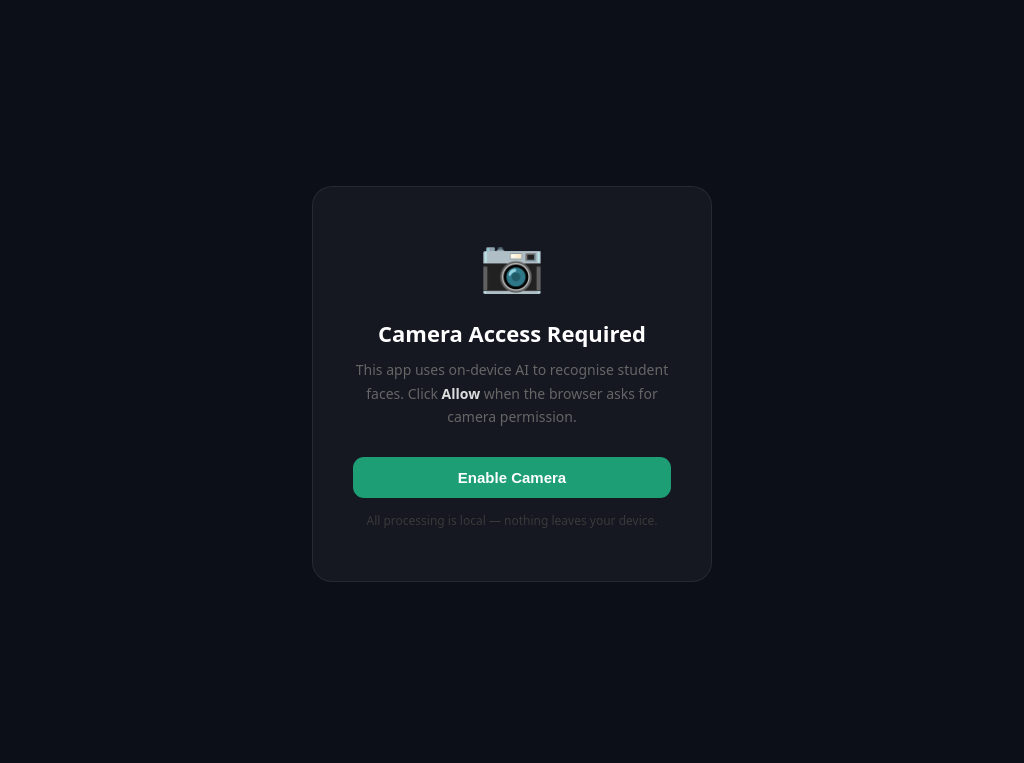
App › summary percentages are well-formed
Click the button "Enable Camera". click: (512, 478)
box: [353, 457, 671, 498]
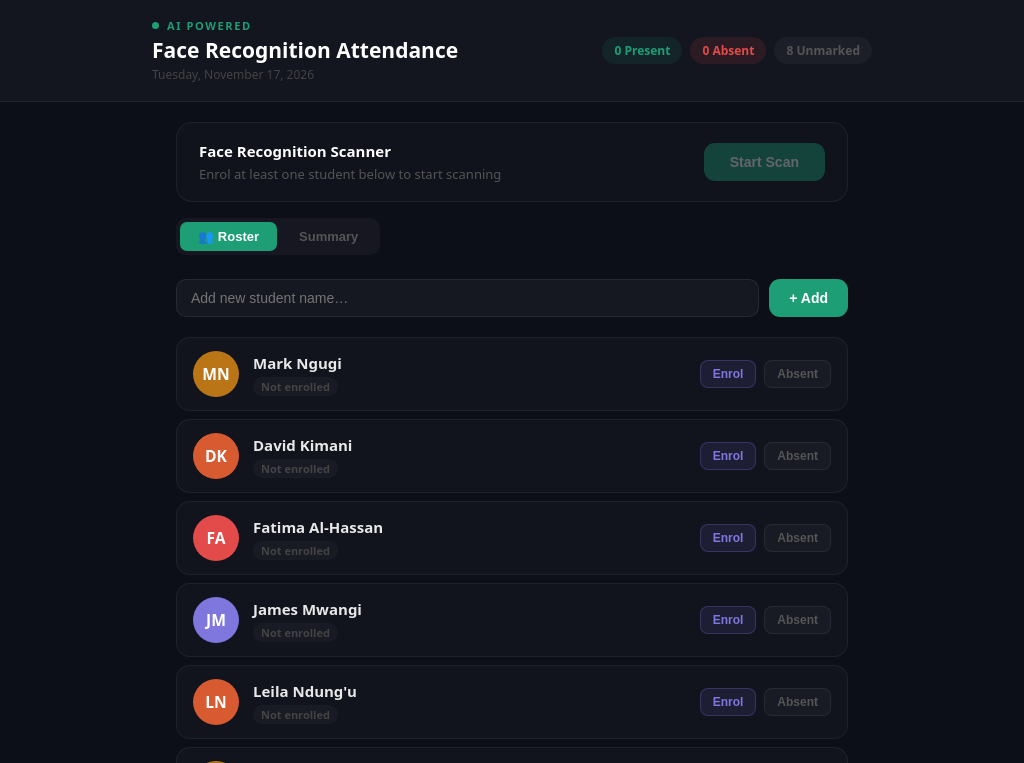
Click the button "Summary". click: (329, 236)
box: [281, 222, 376, 251]
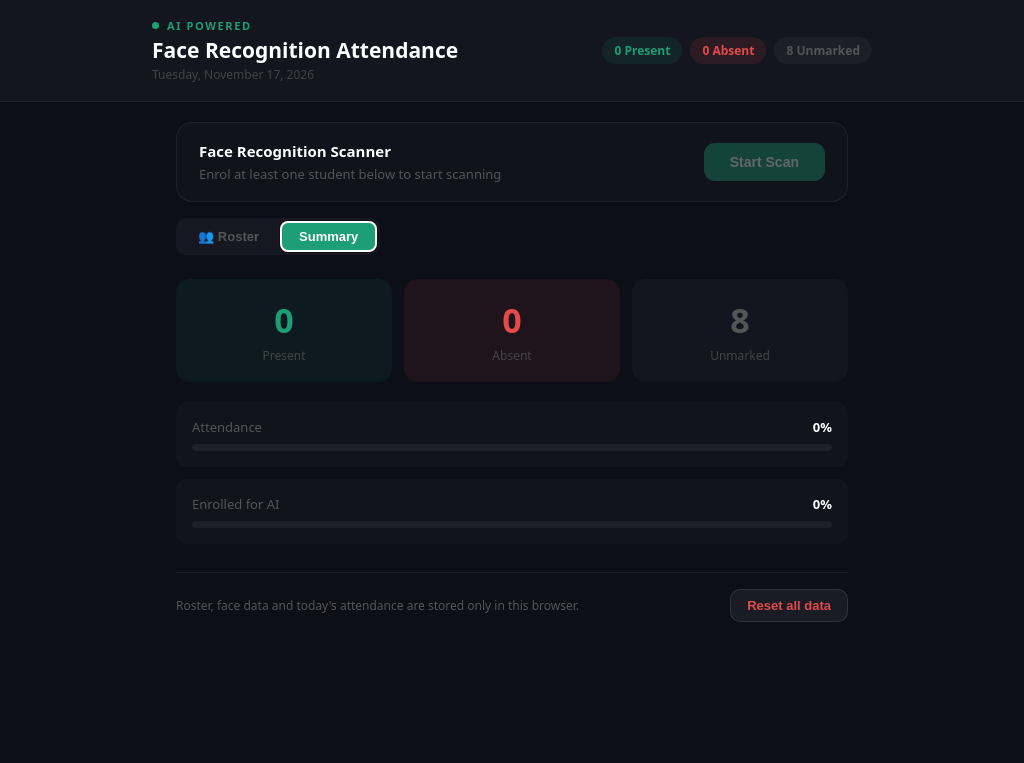
Check: the text "0%" is shown 2 times, box [813, 418, 832, 436]; [813, 495, 832, 513]
